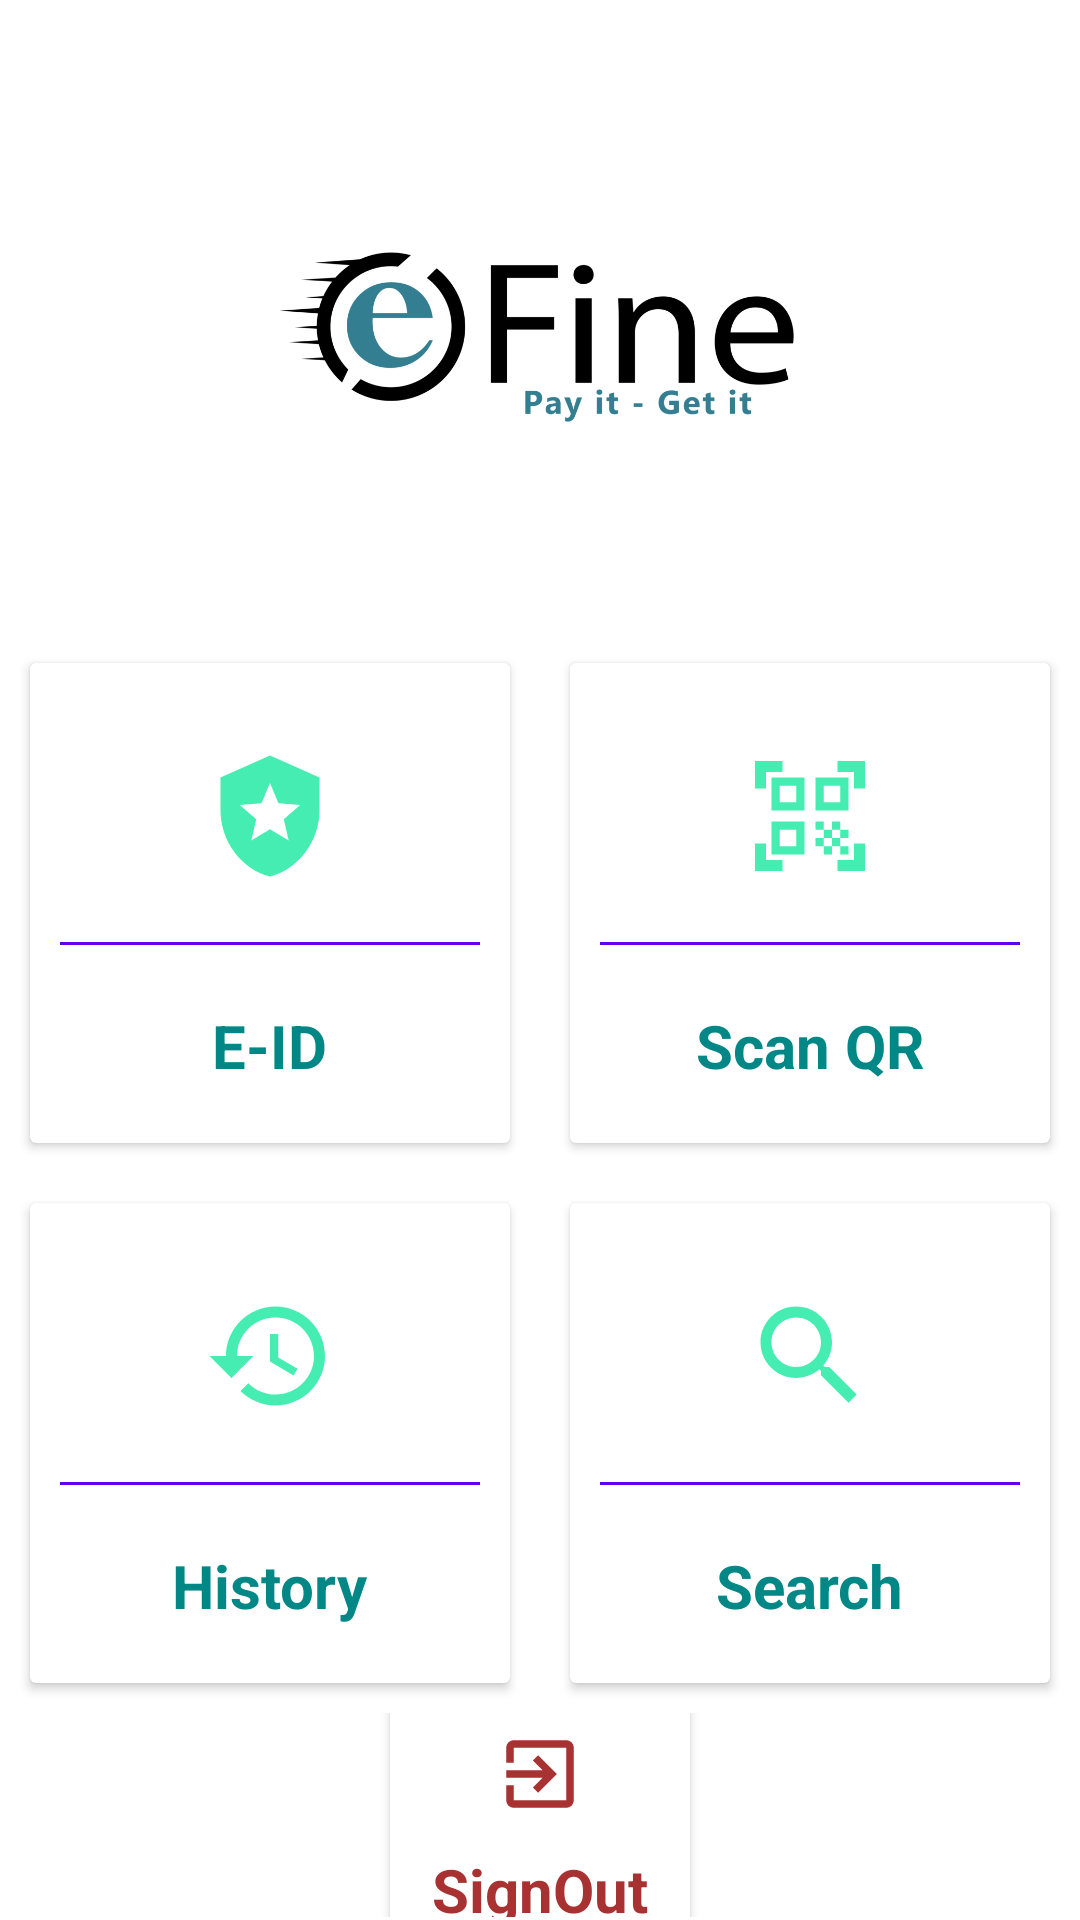

Point at icon controls on the screen. Image size 1080 × 1920, points as [x,y].
police: [270,816]
